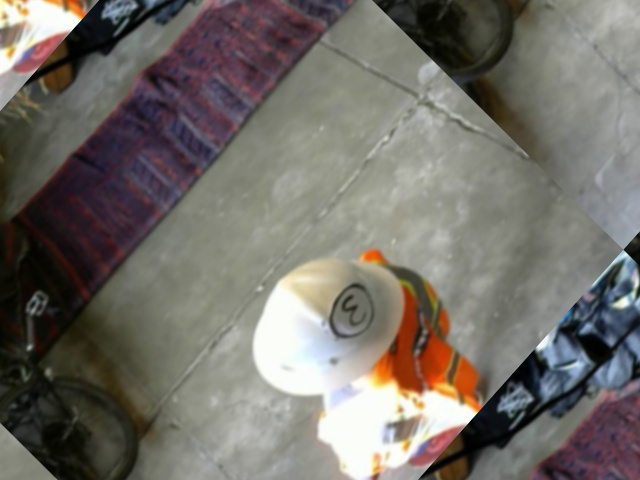three: (315, 276, 384, 348)
